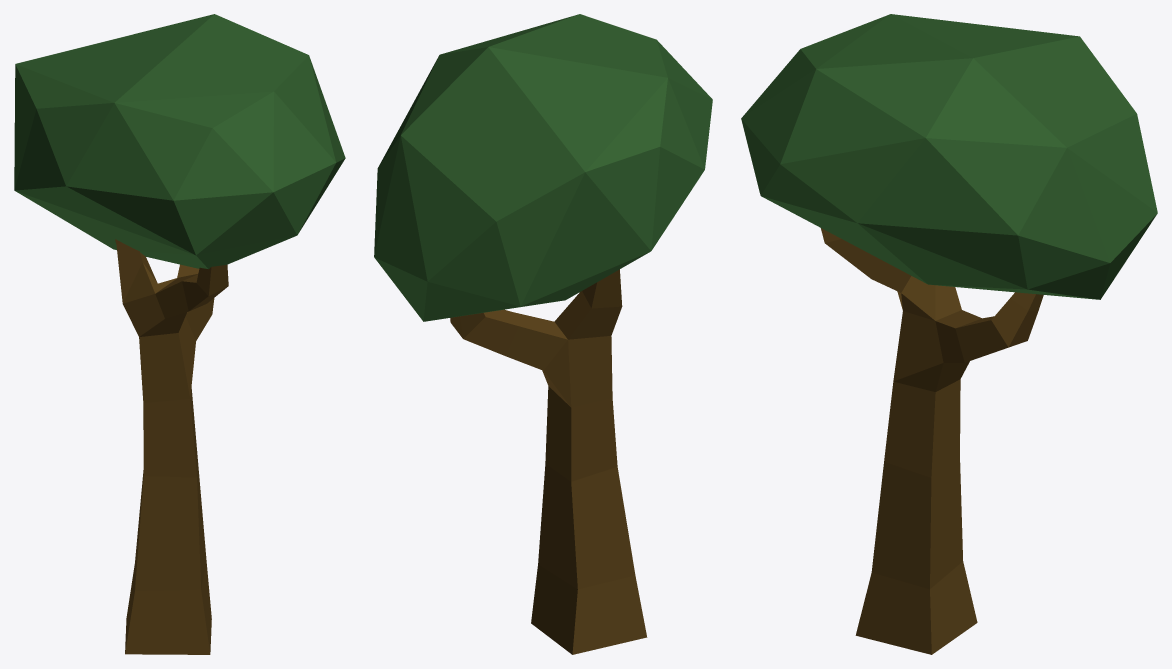
Rendered from Apple Tree.fbx.
The picture shows the model from 3 angles, left to right: view 1: azimuth 30°, elevation 25°; view 2: azimuth 150°, elevation 25°; view 3: azimuth 270°, elevation 25°; orthographic projection. The views are drawn at different scales.
Visible parts, largest first — view 1: Apple Tree; view 2: Apple Tree; view 3: Apple Tree.
Boxes of the visible parts, left/top/right/bottom form: Apple Tree: left=14, top=14, right=345, bottom=654; Apple Tree: left=374, top=14, right=712, bottom=654; Apple Tree: left=741, top=14, right=1157, bottom=654.
Bounding box in the file's own units: 328 × 675 × 419.
